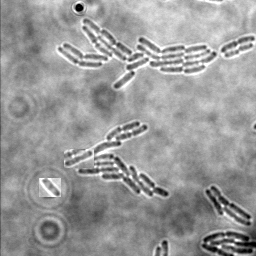Dividing: (219, 34, 255, 52), (223, 41, 253, 57)
Microcolony: (57, 18, 216, 89), (75, 120, 169, 197), (174, 57, 236, 112), (204, 184, 251, 226), (200, 230, 255, 255)
Rod: (219, 169, 243, 180)
